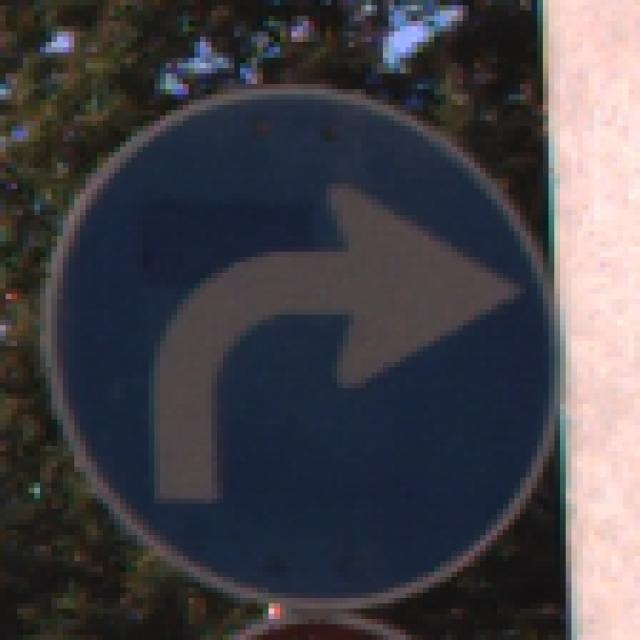compulsary turn right ahead: (52, 83, 554, 602)
